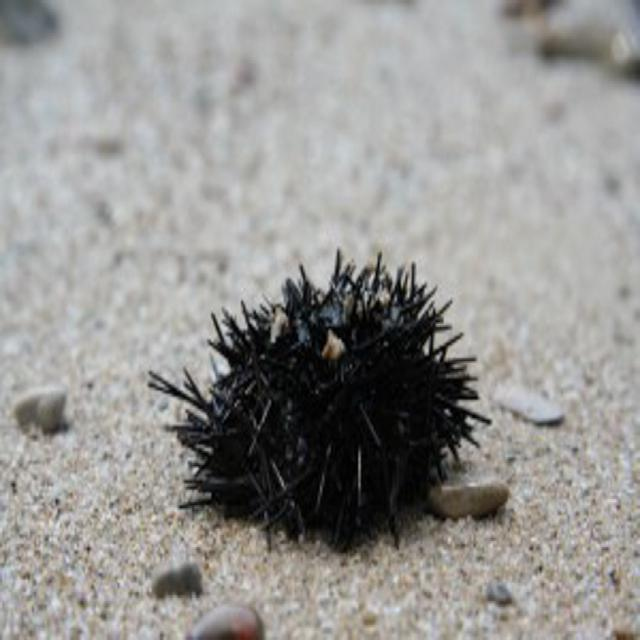Urchin: (130, 230, 501, 564)
